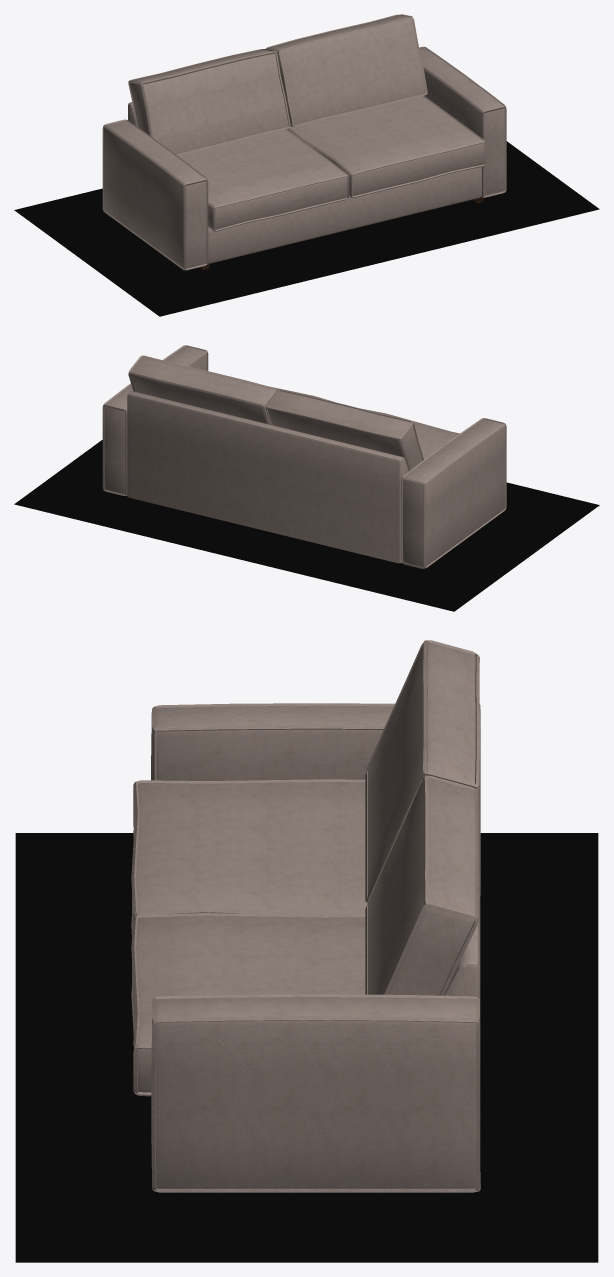
The model's file is Sofa01.dae.
3 renders of one model, top to bottom at view 1: azimuth 30°, elevation 25°; view 2: azimuth 150°, elevation 25°; view 3: azimuth 270°, elevation 25°, orthographic. The views are drawn at different scales.
Visible parts, largest first — view 1: 9_Estofado, 9_Sombra; view 2: 9_Estofado, 9_Sombra; view 3: 9_Estofado, 9_Sombra.
Part boxes in pixels (x1=…): 9_Estofado: x1=102, y1=14, x2=506, y2=270; 9_Sombra: x1=14, y1=141, x2=599, y2=316; 9_Estofado: x1=102, y1=345, x2=506, y2=568; 9_Sombra: x1=14, y1=440, x2=599, y2=611; 9_Estofado: x1=131, y1=640, x2=480, y2=1192; 9_Sombra: x1=15, y1=833, x2=598, y2=1262.
Bounding box in the file's own units: 2.73 × 0.8203 × 1.57.
Materials: 3 (3 with a texture image).
